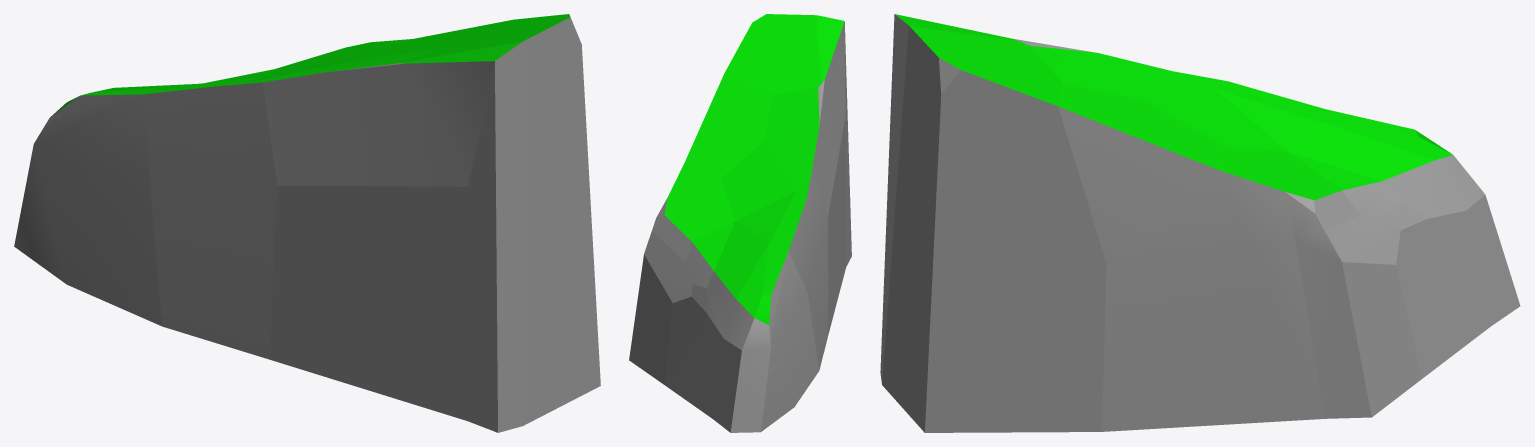
Rendered from rock_jungle_medium_H.fbx.
3 renders of one model, left to right at view 1: azimuth 30°, elevation 25°; view 2: azimuth 150°, elevation 25°; view 3: azimuth 270°, elevation 25°, orthographic. The views are drawn at different scales.
Visible parts, largest first — view 1: rock_jungle_medium_H; view 2: rock_jungle_medium_H; view 3: rock_jungle_medium_H.
Boxes of the visible parts, x1,y1,x2,y2 form: rock_jungle_medium_H: (14, 14, 600, 432); rock_jungle_medium_H: (629, 14, 851, 432); rock_jungle_medium_H: (880, 14, 1520, 432).
Bounding box in the file's own units: 26.98 × 32.2 × 51.03.
